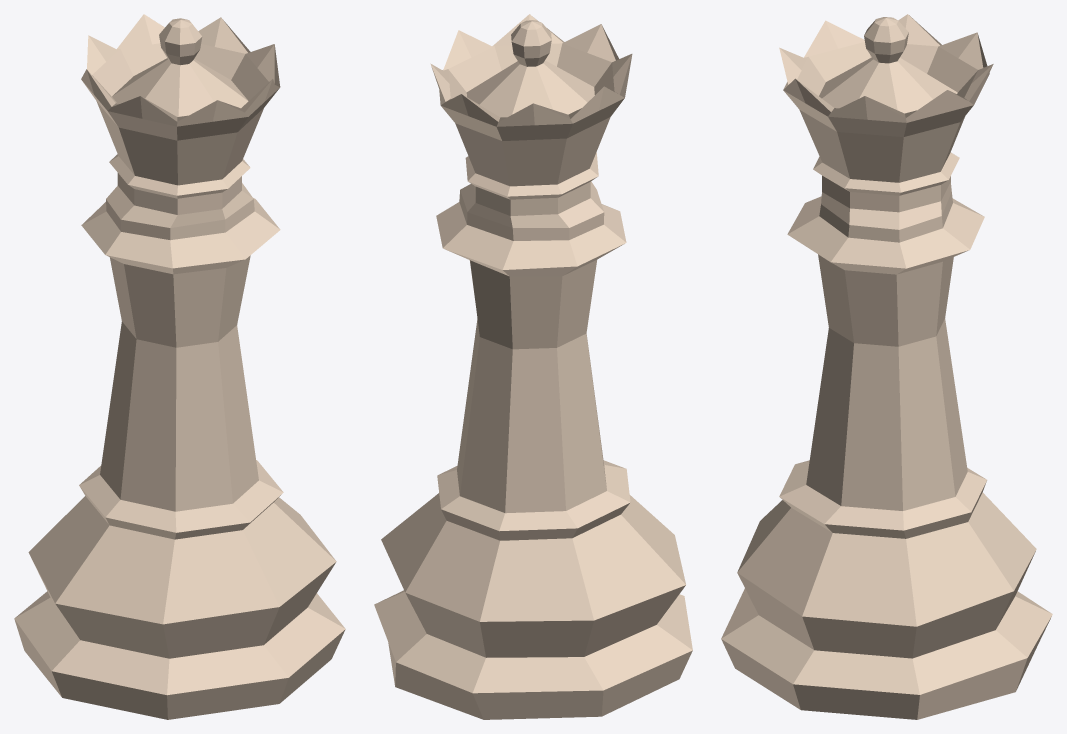
File: Queen white.fbx
3 renders of one model, left to right at view 1: azimuth 30°, elevation 25°; view 2: azimuth 150°, elevation 25°; view 3: azimuth 270°, elevation 25°, orthographic.
Visible parts, largest first — view 1: Queen; view 2: Queen; view 3: Queen.
Boxes of the visible parts, x1=… form: Queen: x1=14, y1=14, x2=345, y2=719; Queen: x1=374, y1=14, x2=692, y2=719; Queen: x1=721, y1=14, x2=1052, y2=719.
Bounding box in the file's own units: 0.04 × 0.085 × 0.04.
